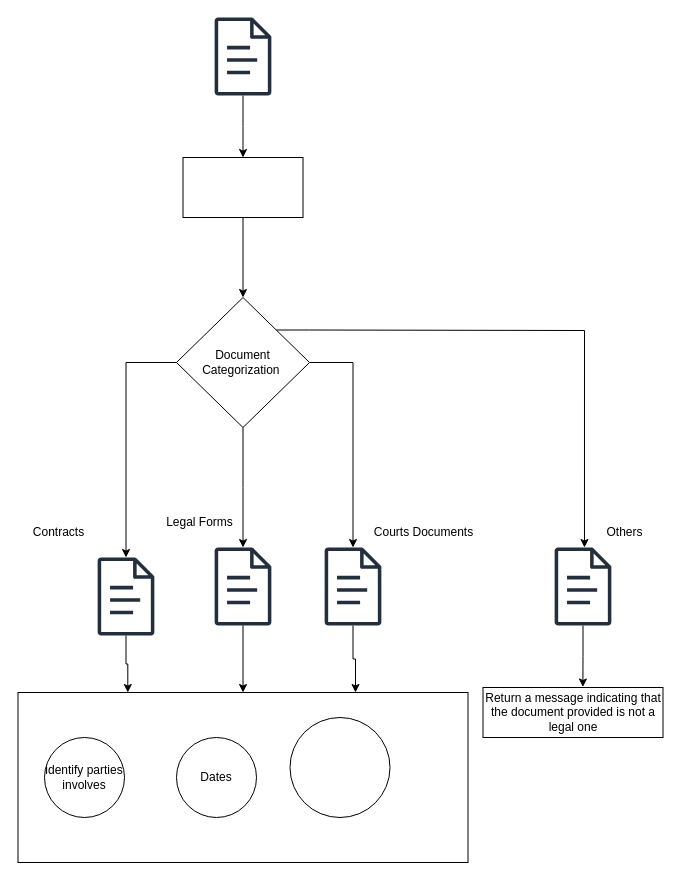
Image size: 680x880. Some labels were removed from this diagram. The centre of each missing label's shape, as x and y in pixels:
"Language?" belongs at pixel 242 187.
"Legal Terms& Phrases (important information)" belongs at pixel 339 767.
